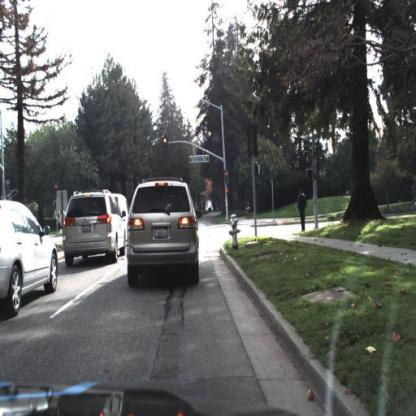car: (125, 179, 204, 289), (1, 196, 65, 320), (62, 188, 126, 270), (109, 192, 133, 245)
pedestrian: (298, 187, 308, 231)
trafficLight-Red: (54, 182, 62, 199), (163, 137, 169, 156), (53, 183, 59, 196), (225, 170, 230, 185)
